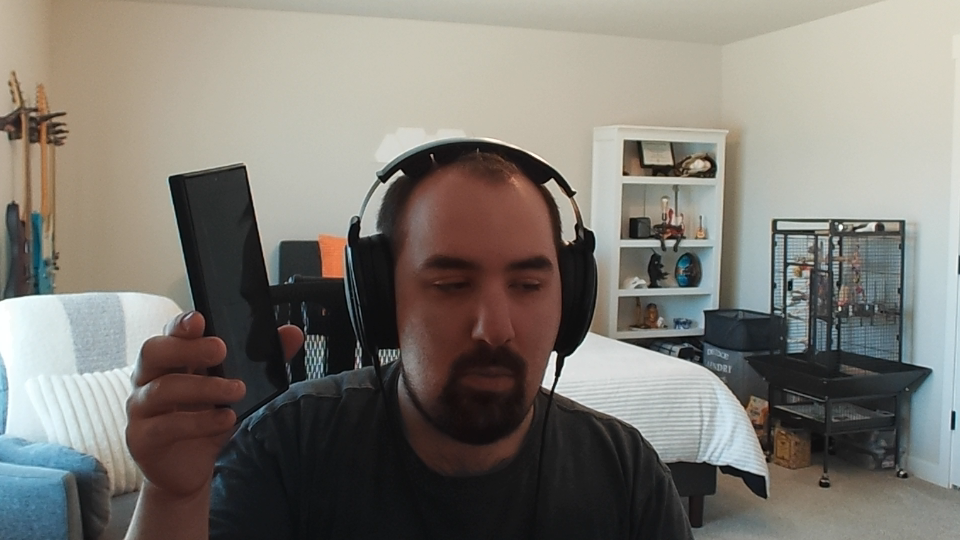MobilePhone: (167, 162, 291, 425)
